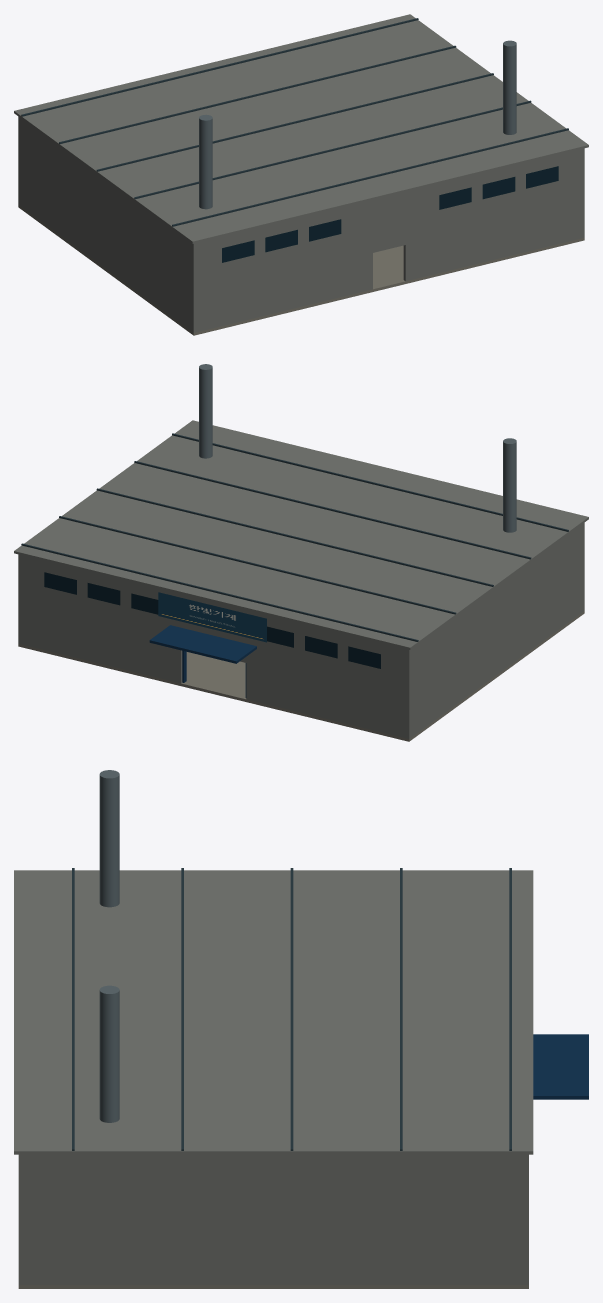
Rendered from factory_hall.obj.
3 views of the same model, one above another, from view 1: azimuth 30°, elevation 25°; view 2: azimuth 150°, elevation 25°; view 3: azimuth 270°, elevation 25° (orthographic). The views are drawn at different scales.
Parts seen in each view (by area): view 1: Concrete, Roof_Metal, Window_Glass, Interior_Floor, Metal_Silver; view 2: Concrete, Roof_Metal, Interior_Floor, Window_Glass, Sign_Atlas, Metal_Silver, Industrial_Blue; view 3: Concrete, Metal_Silver, Roof_Metal, Industrial_Blue, Interior_Floor.
Boxes of the visible parts, x1=… form: Concrete: x1=14, y1=14, x2=588, y2=332; Roof_Metal: x1=21, y1=18, x2=568, y2=226; Window_Glass: x1=222, y1=166, x2=558, y2=262; Interior_Floor: x1=18, y1=205, x2=584, y2=335; Metal_Silver: x1=199, y1=40, x2=516, y2=209; Concrete: x1=14, y1=420, x2=588, y2=738; Roof_Metal: x1=21, y1=433, x2=568, y2=641; Interior_Floor: x1=18, y1=611, x2=584, y2=741; Window_Glass: x1=44, y1=572, x2=380, y2=668; Sign_Atlas: x1=158, y1=592, x2=266, y2=642; Metal_Silver: x1=199, y1=364, x2=516, y2=532; Industrial_Blue: x1=149, y1=625, x2=256, y2=697; Concrete: x1=14, y1=870, x2=533, y2=1284; Metal_Silver: x1=99, y1=770, x2=119, y2=1122; Roof_Metal: x1=72, y1=868, x2=511, y2=1150; Industrial_Blue: x1=533, y1=1034, x2=588, y2=1099; Interior_Floor: x1=18, y1=1285, x2=528, y2=1288.
Size of the model in its own units: 36.5 by 16.24 by 31.55.
